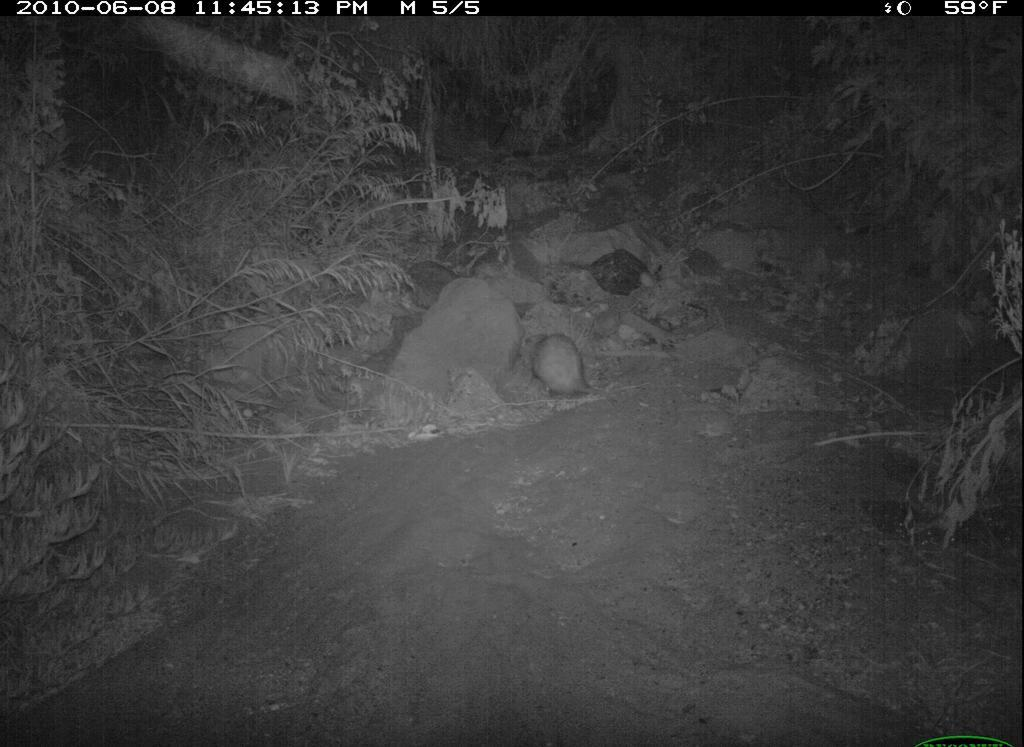opossum: (511, 319, 628, 423)
